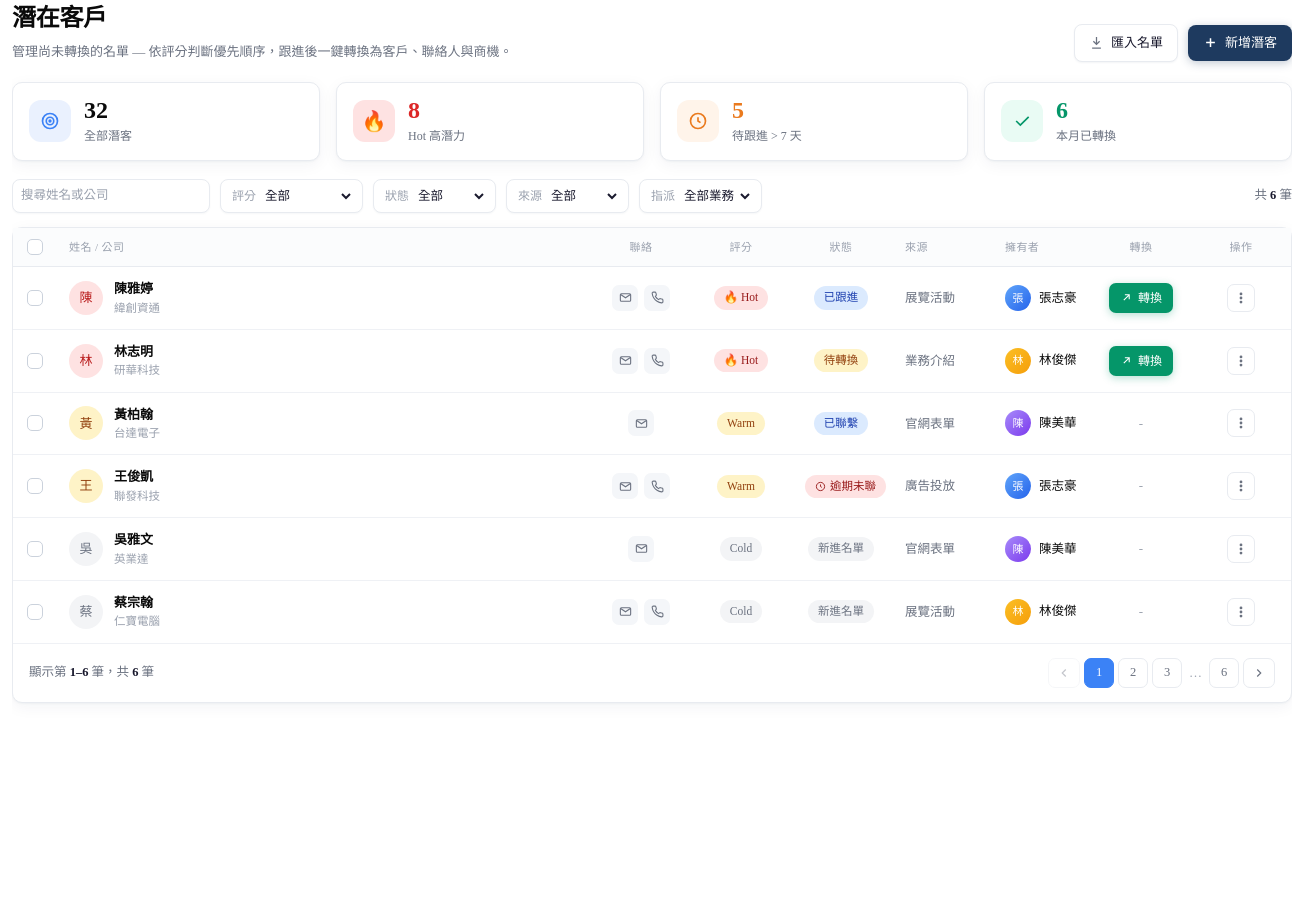
Test: Leads 搜尋 › 輸入關鍵字後只顯示相符的列
Type "雅婷" into the search field named "搜尋潛客".
click(111, 196); type("雅婷")  # box x1=21 y1=180 x2=201 y2=212
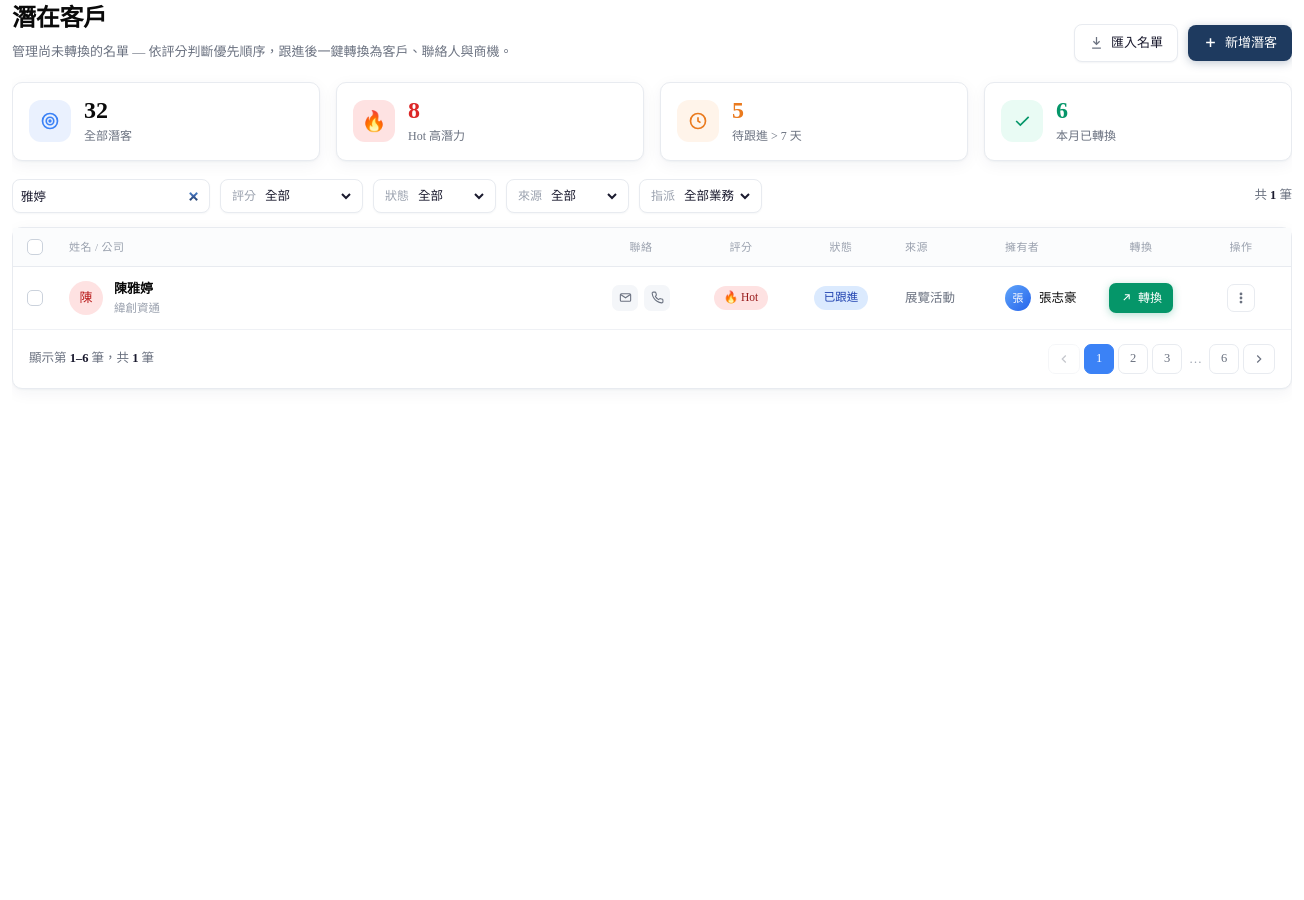
Expected: the text "陳雅婷" is shown, x1=114 y1=281 x2=153 y2=296
Now the text "林志明" is gone
